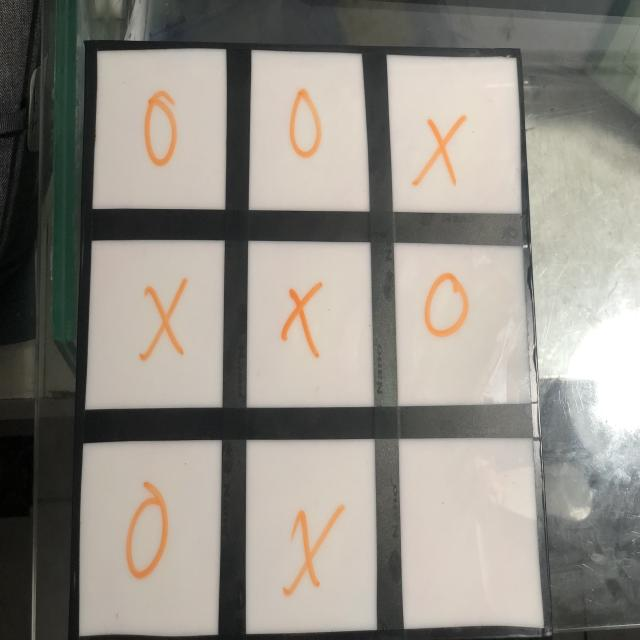null: (398, 432, 546, 630)
o: (121, 487, 172, 587), (140, 87, 185, 173), (420, 271, 472, 338), (287, 82, 324, 161)
table: (67, 42, 548, 638)
x: (285, 495, 346, 607), (142, 274, 193, 362), (412, 112, 467, 190), (281, 285, 325, 358)
